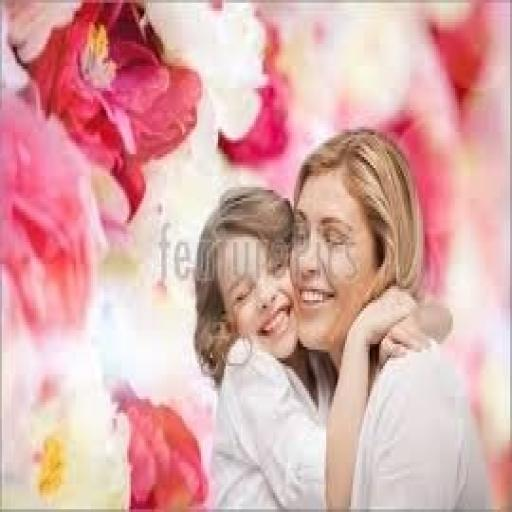hugging: (190, 124, 482, 509)
